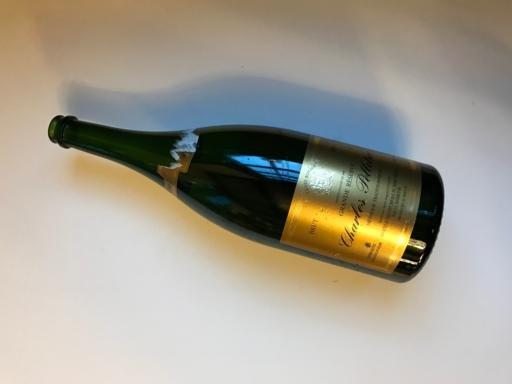botolkaca: (49, 116, 444, 278)
